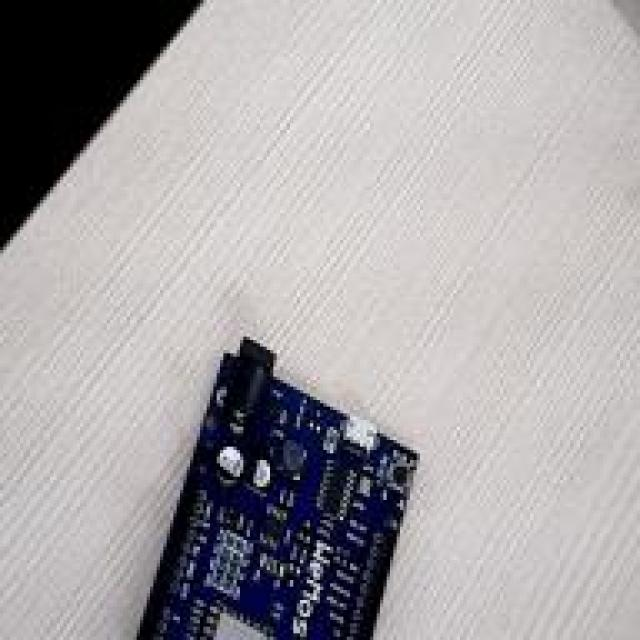Wemos: (138, 341, 414, 638)
